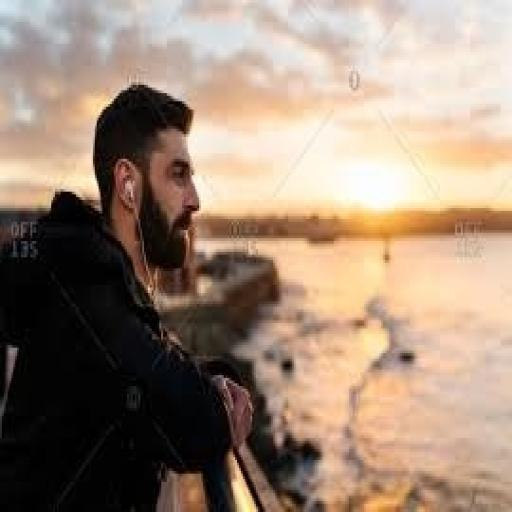listening_to_music: (0, 80, 258, 510)
